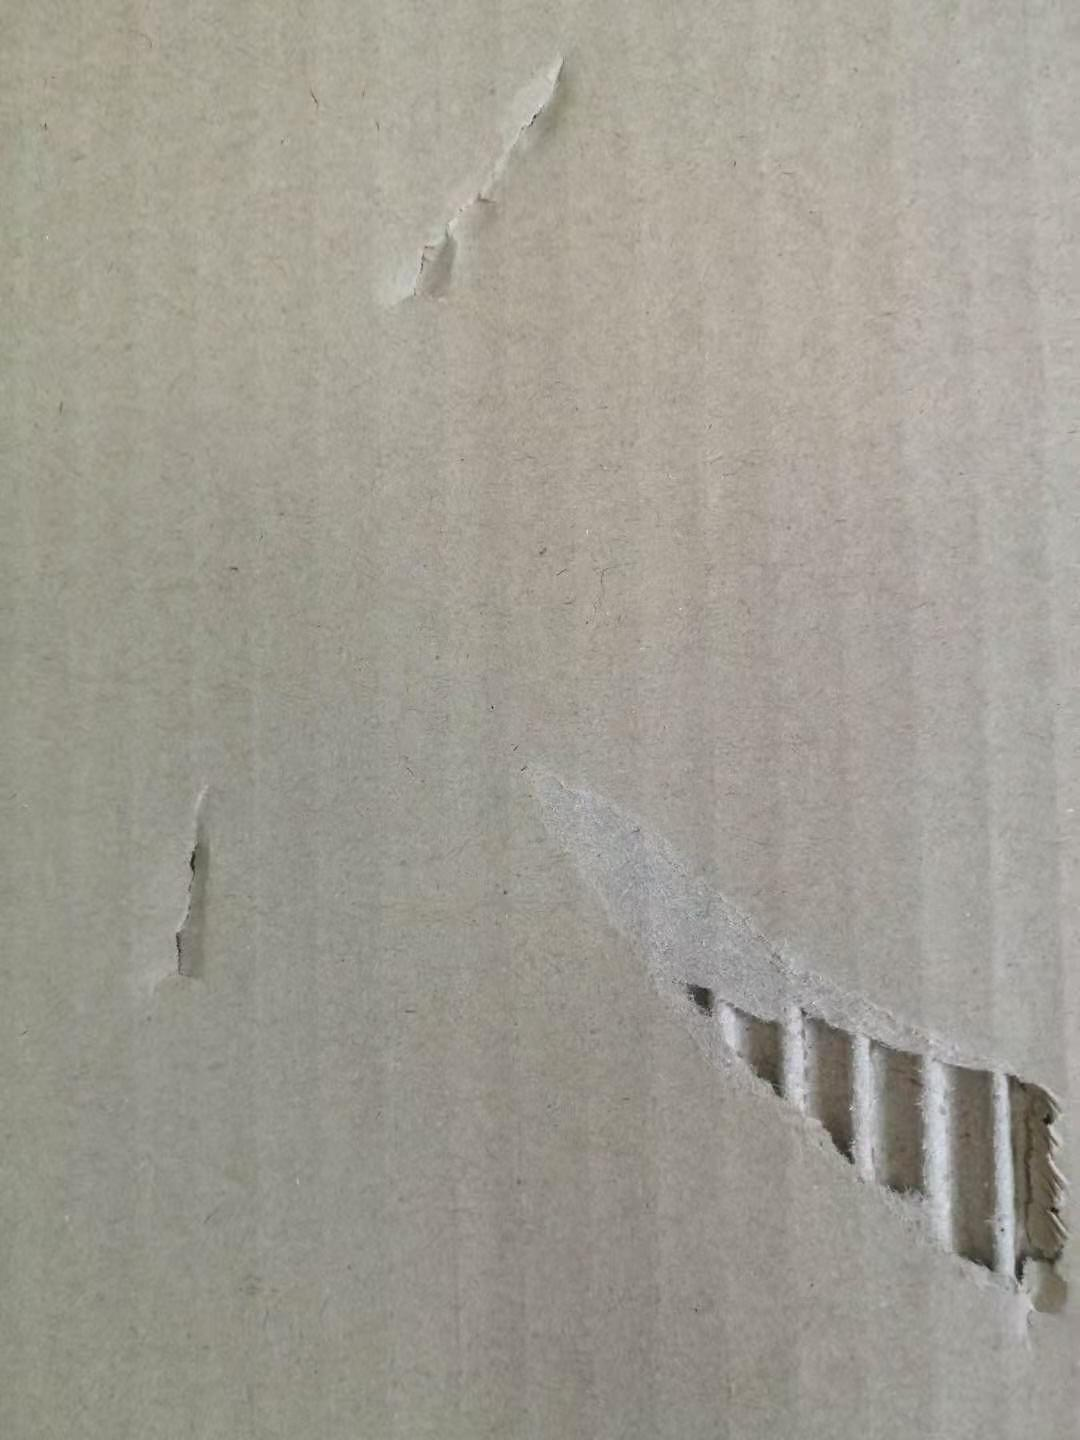defect: (512, 732, 1080, 1364), (345, 27, 615, 327), (120, 753, 255, 1020)
